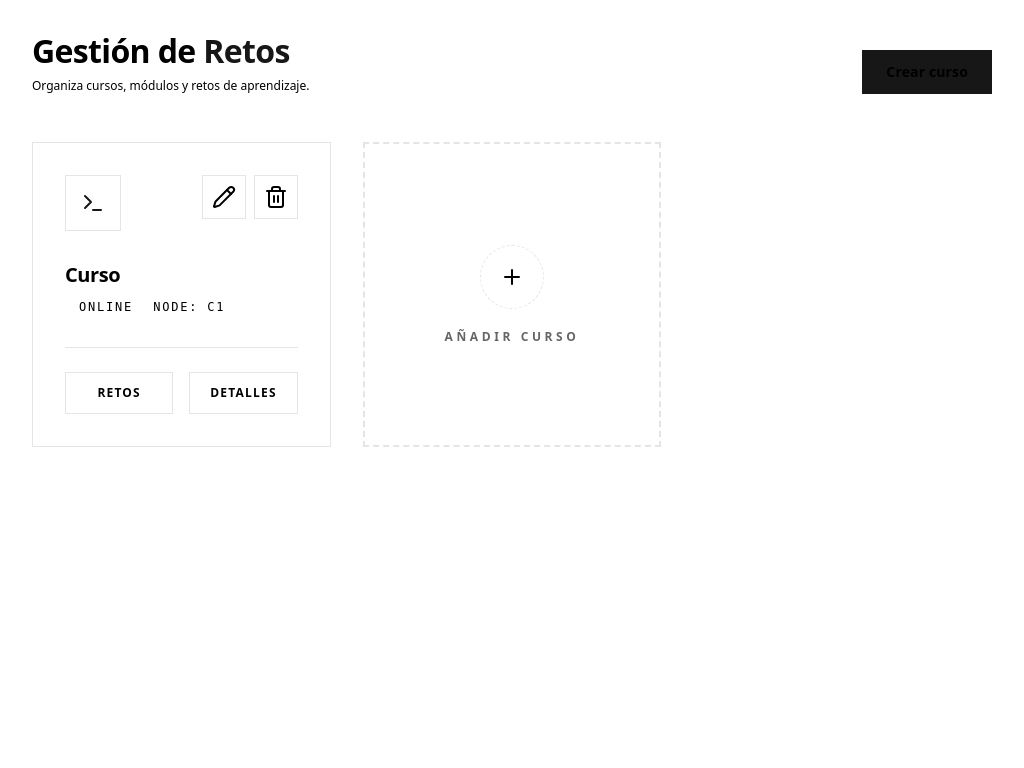
Test case: Challenge editor contract › does not save into the previous lesson when the selected module has none
Click the button "Retos" at (119, 393), box [65,372,173,414]
(page scrolled)
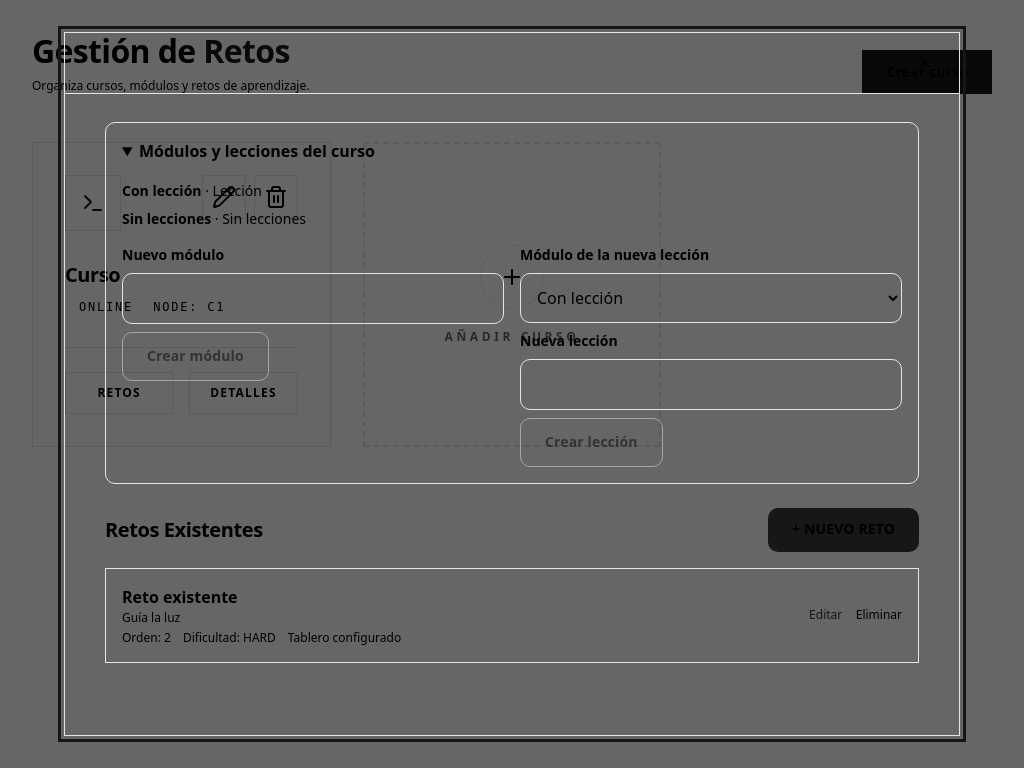
Now the text "Reto existente" is shown, box [122,586,238,608]
Click the button "Editar" at (826, 615), box [804,593,848,637]
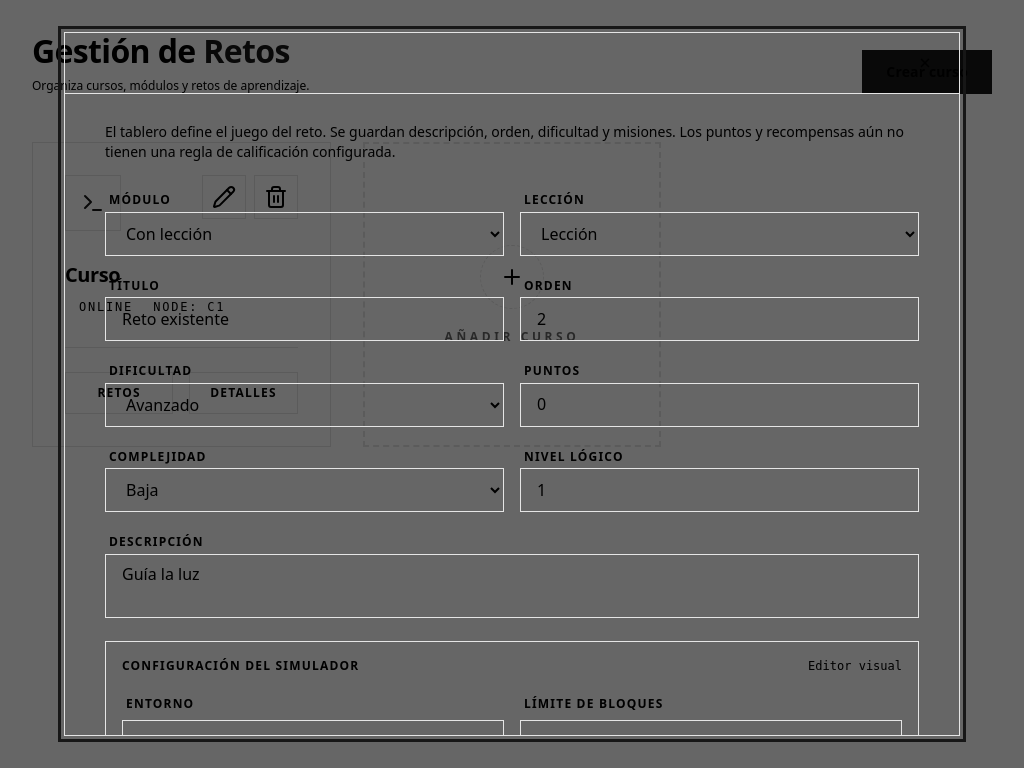
Now the dropdown labelled "Lección" shows "Lección", box [520,212,919,256]
Select "Sin lecciones" in the dropdown labelled "Módulo" at (304, 234), box [105,212,504,256]
(page scrolled)
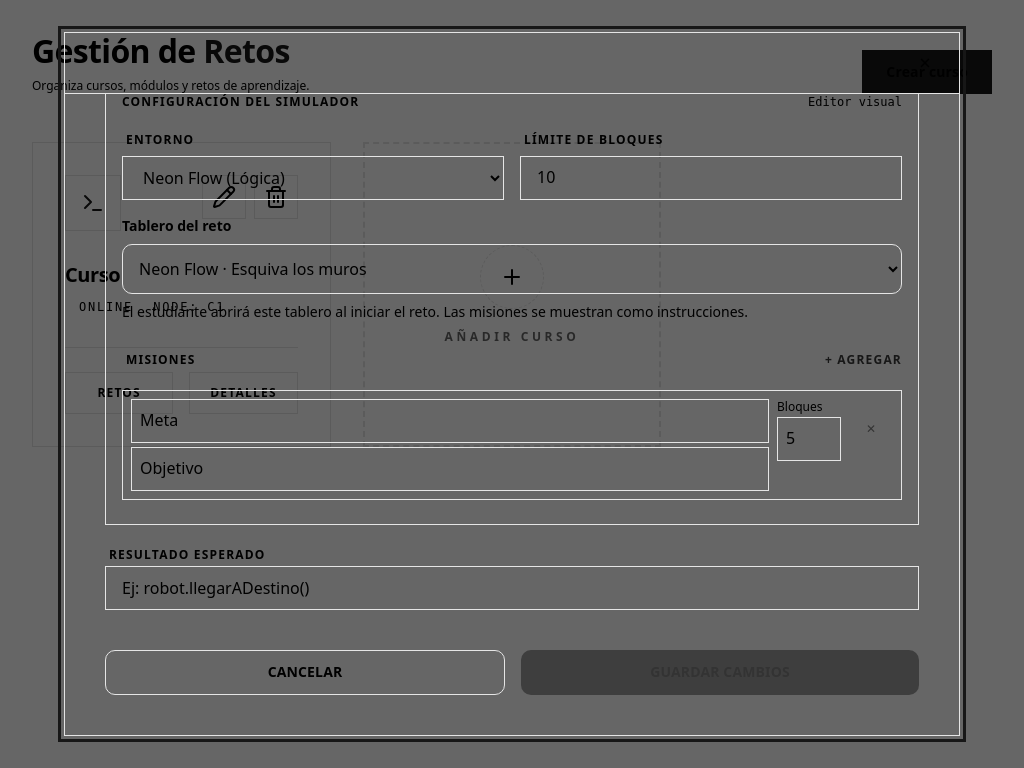
Now the button "GUARDAR CAMBIOS" is disabled, box [521,650,919,695]
